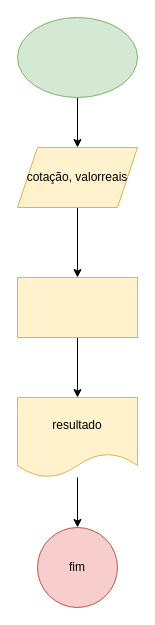
The diagram is 155 pixels wide and 625 high, and some of its shapes have lost their labels. Here are the shapes that lost their labels. From the top down, the box of each, then its label:
(16, 16, 138, 98): inicio
(16, 276, 138, 338): resultado = (valorreais/cotacao)
